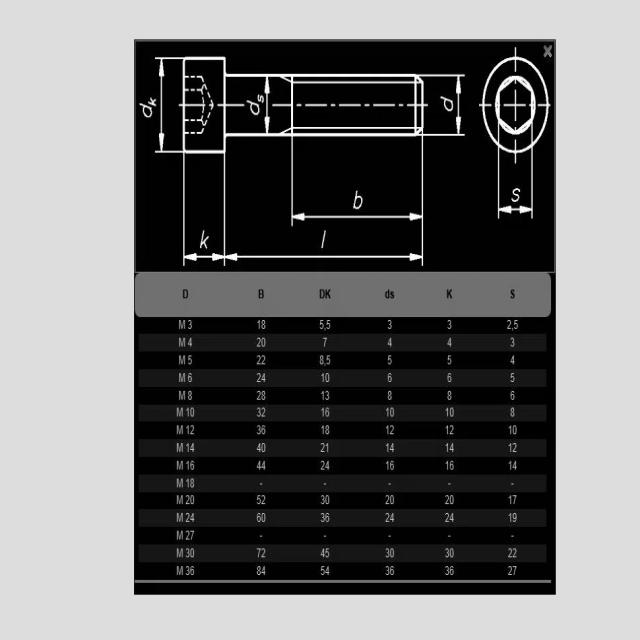marking_line: (221, 155, 423, 267), (289, 138, 425, 226), (180, 154, 226, 268), (495, 153, 537, 222), (425, 73, 466, 138), (154, 54, 180, 154), (262, 77, 271, 133)
numeric: (352, 186, 364, 213), (437, 95, 453, 112), (244, 98, 259, 116), (198, 228, 210, 250), (318, 225, 328, 251), (510, 186, 521, 205), (140, 102, 153, 117), (257, 92, 265, 104), (148, 97, 156, 108), (322, 335, 328, 348), (260, 318, 267, 329), (255, 546, 261, 558), (189, 424, 195, 435), (184, 494, 190, 505), (320, 512, 326, 523), (387, 372, 393, 383), (185, 405, 190, 418), (190, 441, 195, 454), (190, 528, 195, 541), (319, 319, 324, 331), (257, 355, 262, 367), (261, 372, 266, 384), (261, 407, 267, 417), (325, 547, 330, 559), (390, 513, 396, 523), (447, 354, 452, 366), (510, 353, 515, 365), (512, 512, 518, 522), (190, 476, 194, 490), (187, 372, 192, 383), (190, 407, 195, 418), (256, 441, 261, 452), (261, 494, 266, 505), (325, 372, 330, 383), (325, 442, 330, 453), (325, 494, 330, 505), (326, 565, 331, 576), (387, 319, 392, 330), (387, 336, 392, 347), (387, 354, 392, 365), (387, 390, 392, 401), (390, 547, 395, 558), (447, 337, 452, 348), (447, 372, 452, 383), (450, 407, 455, 418), (449, 459, 454, 470), (511, 390, 516, 401), (513, 460, 518, 471), (512, 494, 517, 505), (261, 355, 266, 365), (261, 390, 266, 400), (188, 355, 193, 365), (190, 496, 195, 506), (185, 512, 190, 522), (190, 547, 195, 557), (185, 566, 190, 576), (256, 461, 261, 471), (326, 320, 331, 330), (319, 355, 324, 365), (325, 390, 330, 400), (325, 425, 330, 435), (320, 443, 325, 453), (320, 461, 325, 471), (320, 548, 325, 558), (390, 425, 395, 435), (384, 512, 389, 522), (390, 566, 395, 576), (447, 390, 452, 400), (507, 319, 512, 329), (512, 425, 517, 435), (508, 549, 513, 559), (512, 565, 517, 575), (257, 318, 261, 330), (186, 441, 190, 453), (186, 529, 190, 541), (262, 442, 266, 454), (262, 547, 266, 559), (321, 493, 325, 505), (386, 406, 390, 418), (390, 406, 394, 418), (448, 318, 452, 330), (450, 564, 454, 576), (390, 444, 395, 453), (449, 443, 454, 452), (513, 443, 518, 452), (262, 336, 266, 347), (257, 406, 261, 417), (188, 319, 192, 330), (188, 336, 192, 347), (188, 390, 192, 401), (186, 477, 190, 488), (191, 511, 195, 522), (257, 424, 261, 435), (262, 425, 266, 436), (257, 512, 261, 523), (257, 566, 261, 577), (327, 355, 331, 366), (321, 372, 325, 383), (320, 389, 324, 400), (326, 407, 330, 418), (326, 512, 330, 523), (321, 565, 325, 576), (390, 460, 394, 471), (386, 565, 390, 576), (445, 407, 449, 418), (445, 494, 449, 505), (445, 512, 449, 523), (450, 512, 454, 523), (445, 565, 449, 576), (508, 460, 512, 471), (508, 494, 512, 505), (508, 566, 512, 577), (257, 337, 261, 347), (186, 548, 190, 558), (191, 564, 195, 574), (262, 460, 266, 470), (257, 495, 261, 505), (262, 566, 266, 576), (386, 443, 390, 453), (390, 495, 394, 505), (445, 425, 449, 435), (450, 424, 454, 434), (445, 460, 449, 470), (445, 548, 449, 558), (508, 513, 512, 523), (513, 548, 517, 558), (321, 407, 324, 419), (385, 496, 389, 505), (385, 548, 389, 557), (450, 495, 454, 504), (514, 320, 518, 329), (508, 425, 512, 434), (508, 443, 512, 452), (191, 460, 194, 471), (262, 512, 265, 523), (511, 406, 514, 417), (257, 372, 260, 382), (257, 391, 260, 401), (186, 425, 189, 435), (326, 460, 329, 470), (451, 548, 454, 558), (511, 338, 514, 348), (511, 373, 514, 383), (186, 461, 189, 470), (386, 425, 389, 434), (446, 442, 449, 451), (322, 424, 324, 435), (387, 461, 389, 472)
